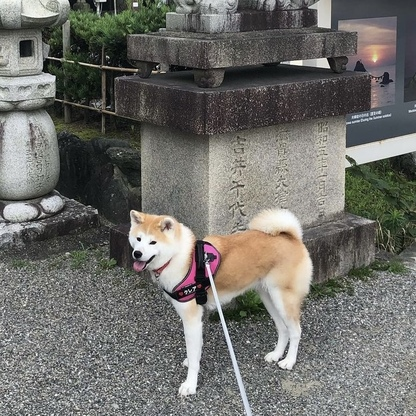akita: (120, 202, 320, 402)
